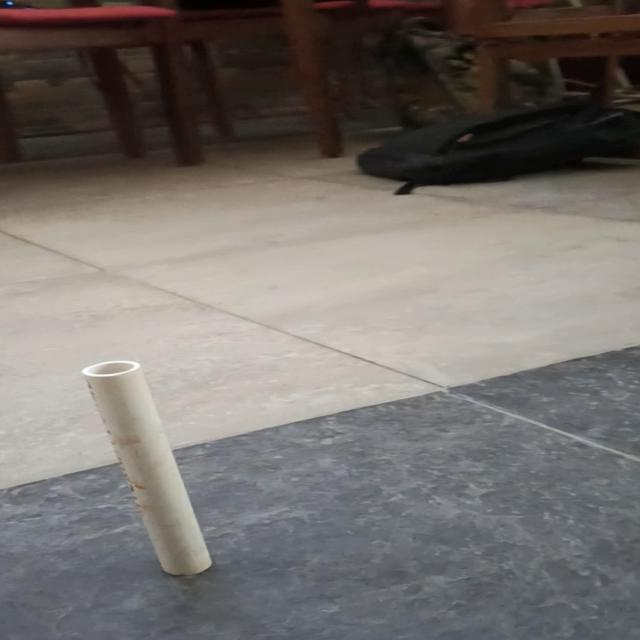Cube: (79, 359, 213, 575)
